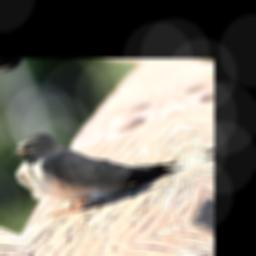Swallow: (2, 94, 185, 228)
